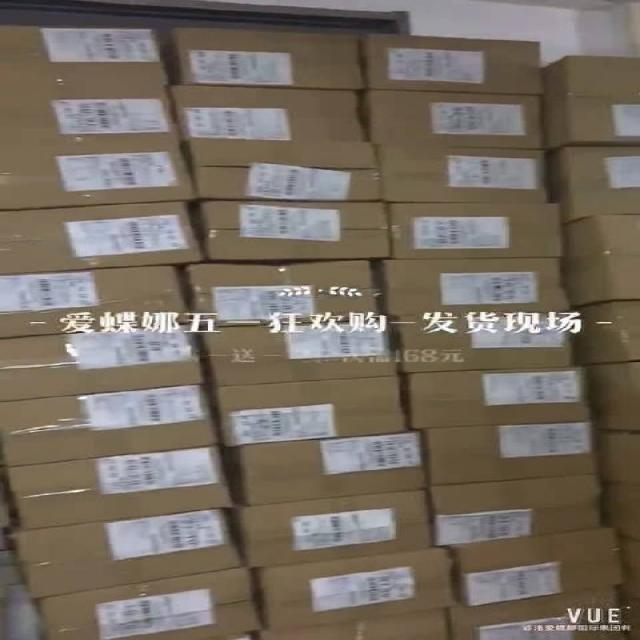box: (10, 509, 244, 598), (7, 447, 236, 529), (1, 385, 217, 467), (246, 547, 458, 629), (34, 569, 264, 639), (222, 491, 430, 567), (3, 325, 204, 401), (222, 430, 424, 504), (2, 201, 204, 273), (0, 136, 195, 210), (446, 526, 627, 605), (216, 378, 408, 447), (3, 266, 189, 337), (200, 321, 399, 386), (429, 475, 604, 545), (190, 260, 380, 323), (403, 366, 588, 429), (362, 32, 542, 96), (191, 140, 384, 199), (176, 28, 365, 88), (387, 313, 570, 374), (423, 421, 596, 485), (376, 258, 572, 314), (174, 87, 368, 142), (201, 202, 388, 258), (365, 90, 544, 148), (0, 85, 183, 141), (376, 144, 552, 202), (383, 202, 562, 258), (1, 26, 168, 84), (448, 588, 623, 639), (560, 215, 639, 307), (548, 148, 639, 221), (262, 608, 452, 639), (542, 95, 639, 151), (569, 299, 640, 364), (542, 56, 639, 101), (583, 362, 639, 432)
